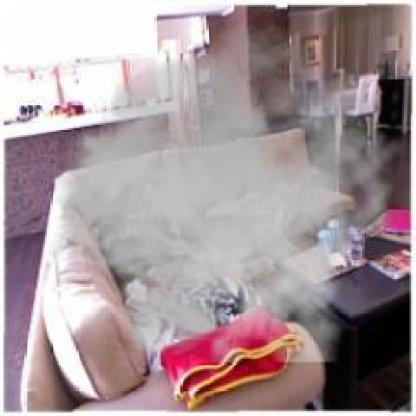Smoke: (44, 23, 405, 362)
